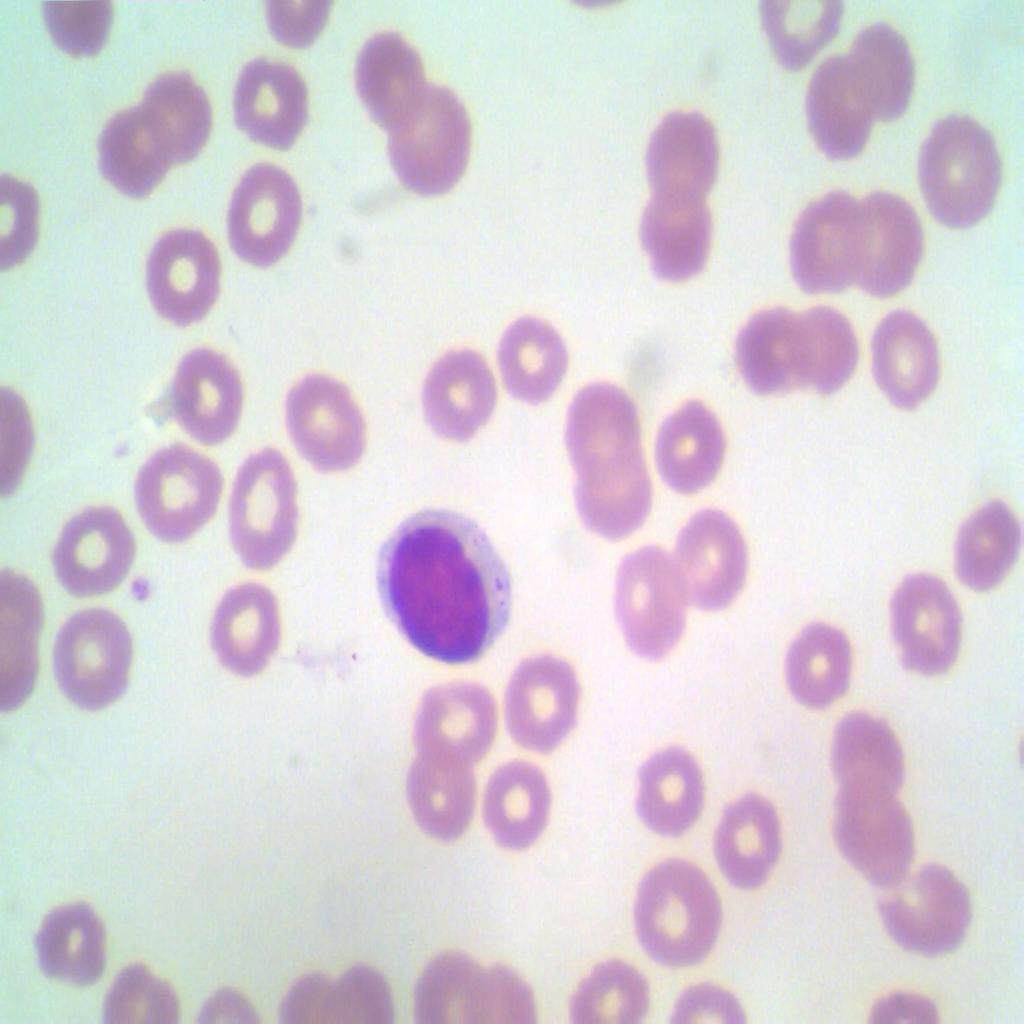Eritrosit: (918, 116, 1016, 230), (878, 856, 978, 961), (496, 639, 586, 755), (142, 221, 230, 337), (283, 362, 371, 476), (389, 84, 475, 198), (635, 854, 718, 972), (673, 498, 755, 616), (838, 774, 922, 888), (138, 431, 226, 539), (790, 56, 876, 164), (939, 481, 1023, 591), (641, 94, 719, 212), (226, 159, 306, 274), (230, 52, 318, 155), (234, 431, 296, 574), (846, 184, 923, 298), (779, 197, 875, 288), (28, 895, 116, 992), (476, 748, 558, 852), (492, 296, 570, 404), (163, 349, 246, 450), (822, 694, 908, 790), (569, 450, 655, 544), (868, 307, 944, 412), (706, 785, 780, 892), (53, 608, 138, 701), (419, 335, 496, 437), (621, 536, 689, 650), (419, 674, 504, 764), (733, 299, 808, 401), (775, 612, 853, 710), (206, 585, 280, 688), (628, 732, 702, 835), (143, 71, 216, 174), (895, 572, 959, 685), (353, 25, 421, 131), (402, 752, 480, 844), (846, 28, 918, 127), (783, 304, 859, 397), (642, 188, 715, 282), (98, 108, 172, 197), (654, 401, 722, 497), (55, 503, 128, 591), (566, 371, 632, 468), (411, 945, 488, 1023), (765, 0, 848, 68), (569, 954, 643, 1023)
Limfosit: (372, 504, 518, 680)
Platelet: (124, 561, 163, 618)
